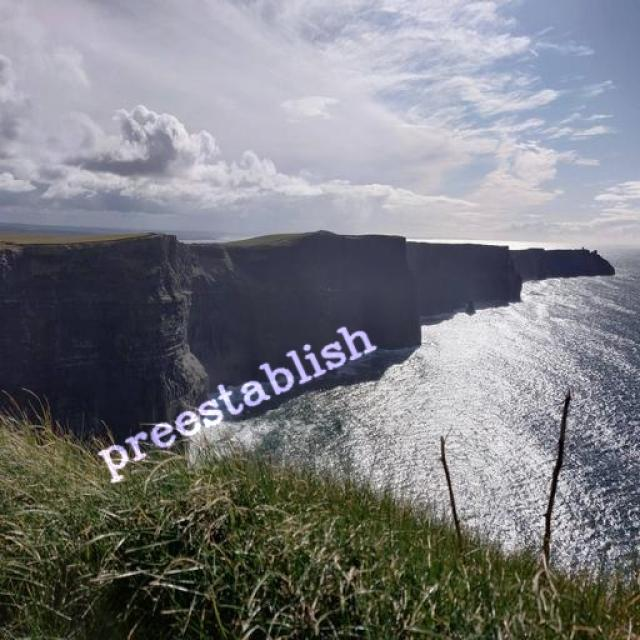watermark: (94, 312, 378, 481)
